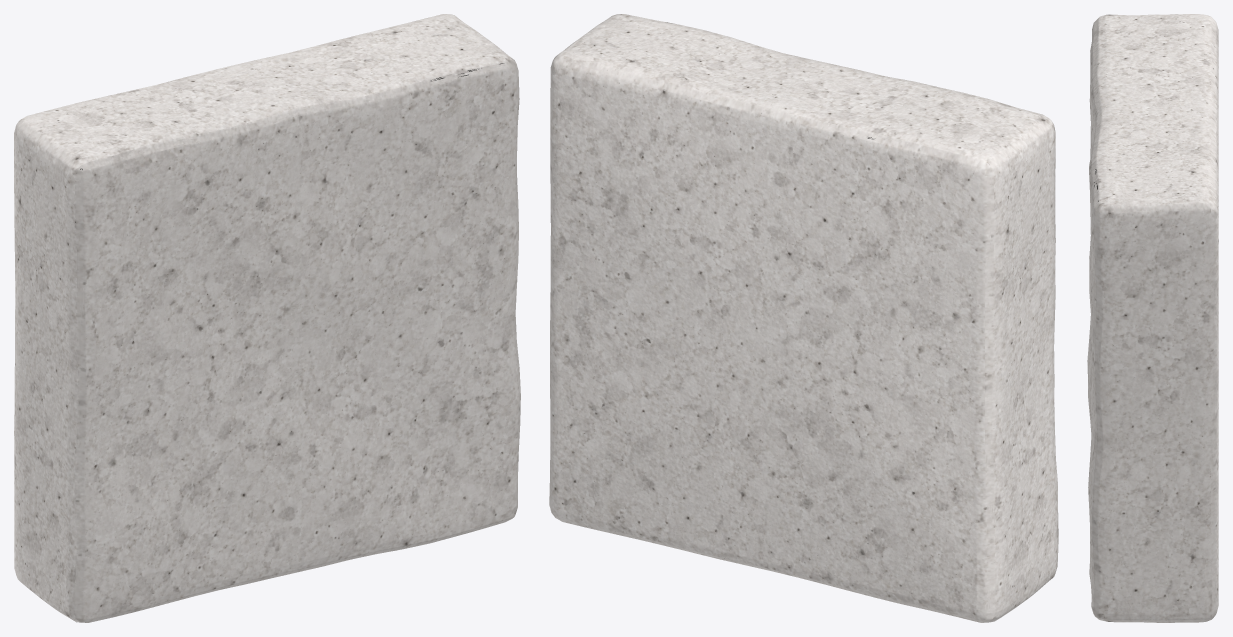
Rendered from tak-upright-white.glb.
3 renders of one model, left to right at view 1: azimuth 30°, elevation 25°; view 2: azimuth 150°, elevation 25°; view 3: azimuth 270°, elevation 25°, orthographic. The views are drawn at different scales.
Visible parts, largest first — view 1: tak-upright-white; view 2: tak-upright-white; view 3: tak-upright-white.
Boxes of the visible parts, left/top/right/bottom form: tak-upright-white: left=14, top=14, right=520, bottom=622; tak-upright-white: left=549, top=14, right=1058, bottom=622; tak-upright-white: left=1087, top=14, right=1218, bottom=622.
Bounding box in the file's own units: 0.0283 × 0.0283 × 0.0079.
Materials: 1 (1 with a texture image).
